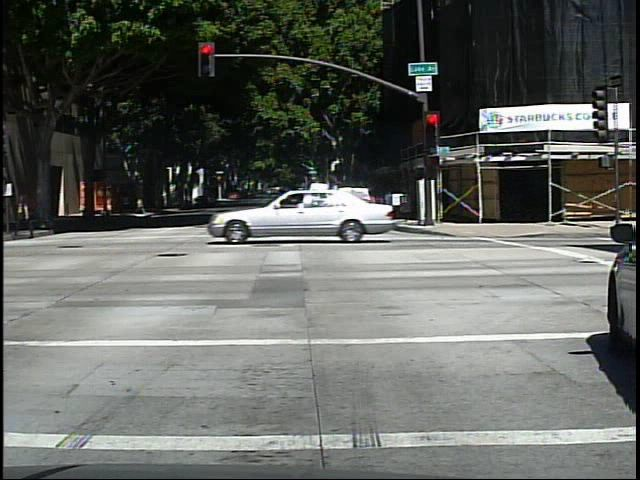person: (13, 189, 42, 242)
